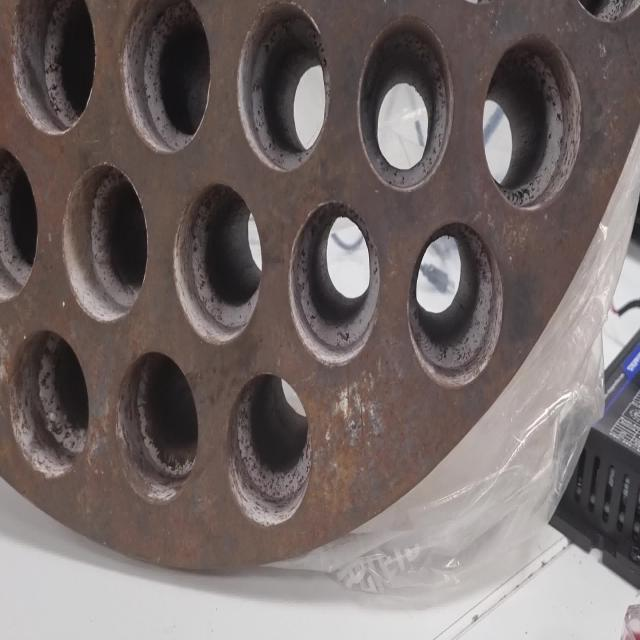Hole: (482, 32, 583, 210), (358, 14, 455, 192), (407, 220, 504, 388), (238, 2, 331, 172), (289, 200, 380, 367), (174, 183, 264, 345), (119, 0, 211, 154), (62, 162, 148, 324), (227, 372, 311, 528), (115, 351, 198, 505), (7, 330, 90, 478), (10, 0, 96, 136), (0, 148, 39, 302)
